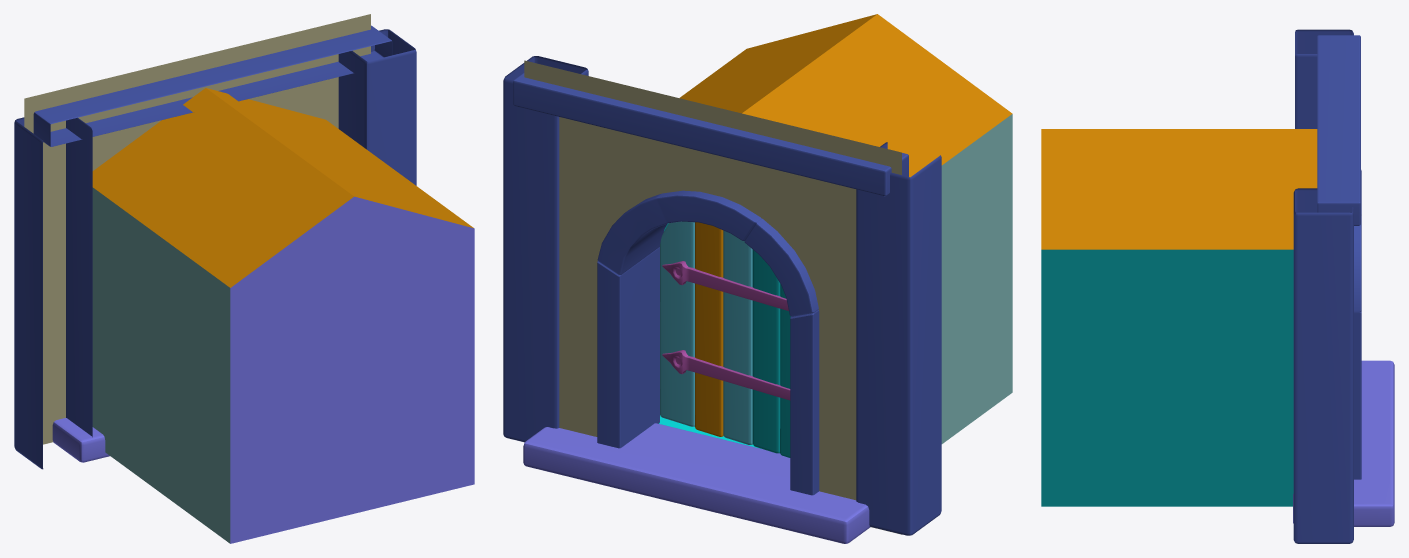
The model's file is SM_Hous3Face_1Floor.fbx.
3 renders of one model, left to right at view 1: azimuth 30°, elevation 25°; view 2: azimuth 150°, elevation 25°; view 3: azimuth 270°, elevation 25°, orthographic. The views are drawn at different scales.
Visible parts, largest first — view 1: SM_Hous03Face_1Floor; view 2: SM_Hous03Face_1Floor; view 3: SM_Hous03Face_1Floor.
Part boxes in pixels (x1,y1,x2,y2): SM_Hous03Face_1Floor: [14, 14, 474, 543]; SM_Hous03Face_1Floor: [503, 14, 1012, 543]; SM_Hous03Face_1Floor: [1041, 29, 1394, 543].
Bounding box in the file's own units: 3.25 × 2.92 × 2.64.
